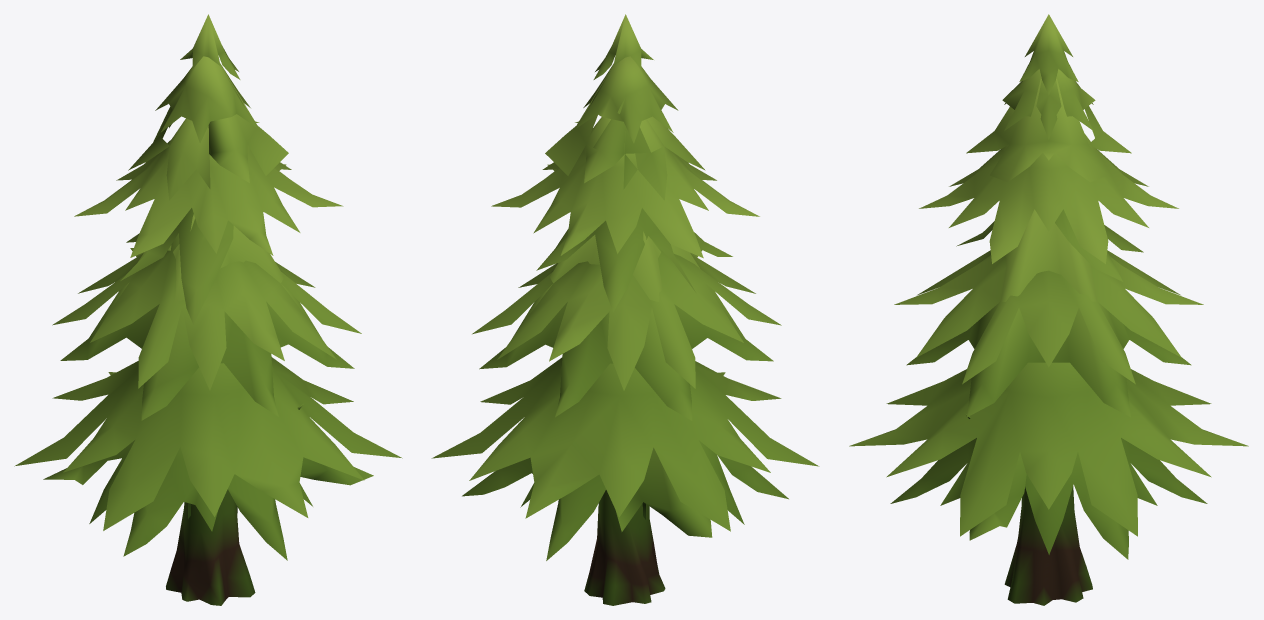
File: tree_b.glb
The picture shows the model from 3 angles, left to right: view 1: azimuth 30°, elevation 25°; view 2: azimuth 150°, elevation 25°; view 3: azimuth 270°, elevation 25°; orthographic projection.
Parts seen in each view (by area): view 1: tree_pine; view 2: tree_pine; view 3: tree_pine.
Part boxes in pixels (bbox=[...]): tree_pine: bbox=[14, 14, 402, 605]; tree_pine: bbox=[431, 14, 819, 605]; tree_pine: bbox=[849, 14, 1248, 605].
Bounding box in the file's own units: 1.86 × 3.4 × 2.15.
